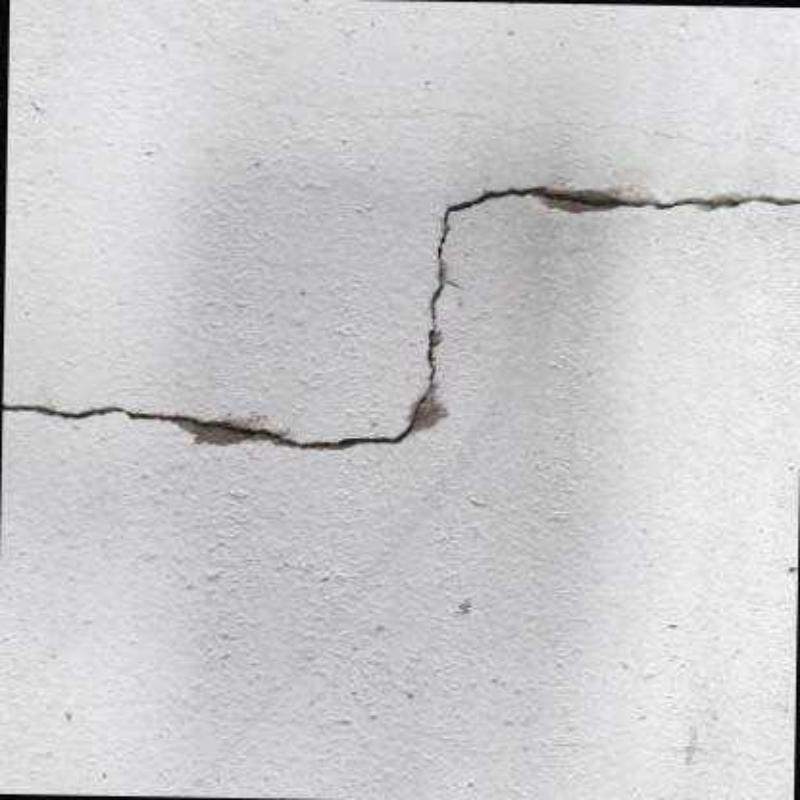pothole: (2, 185, 800, 448)
